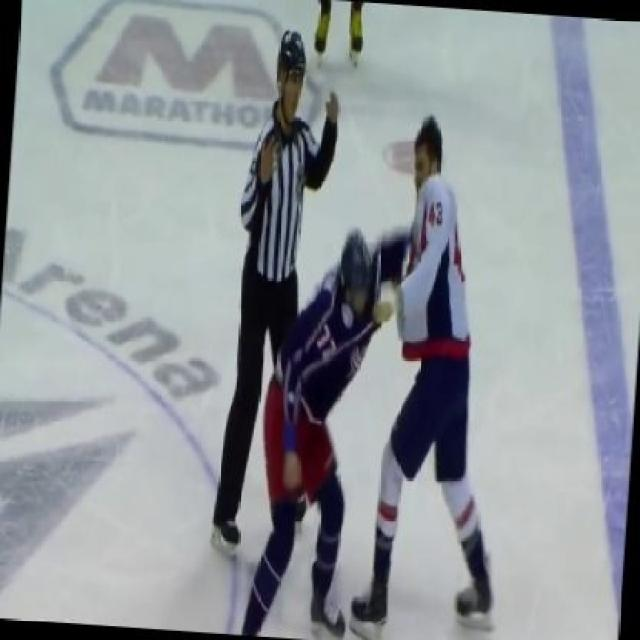fight: (239, 120, 493, 640)
non-fight: (214, 31, 340, 549)
